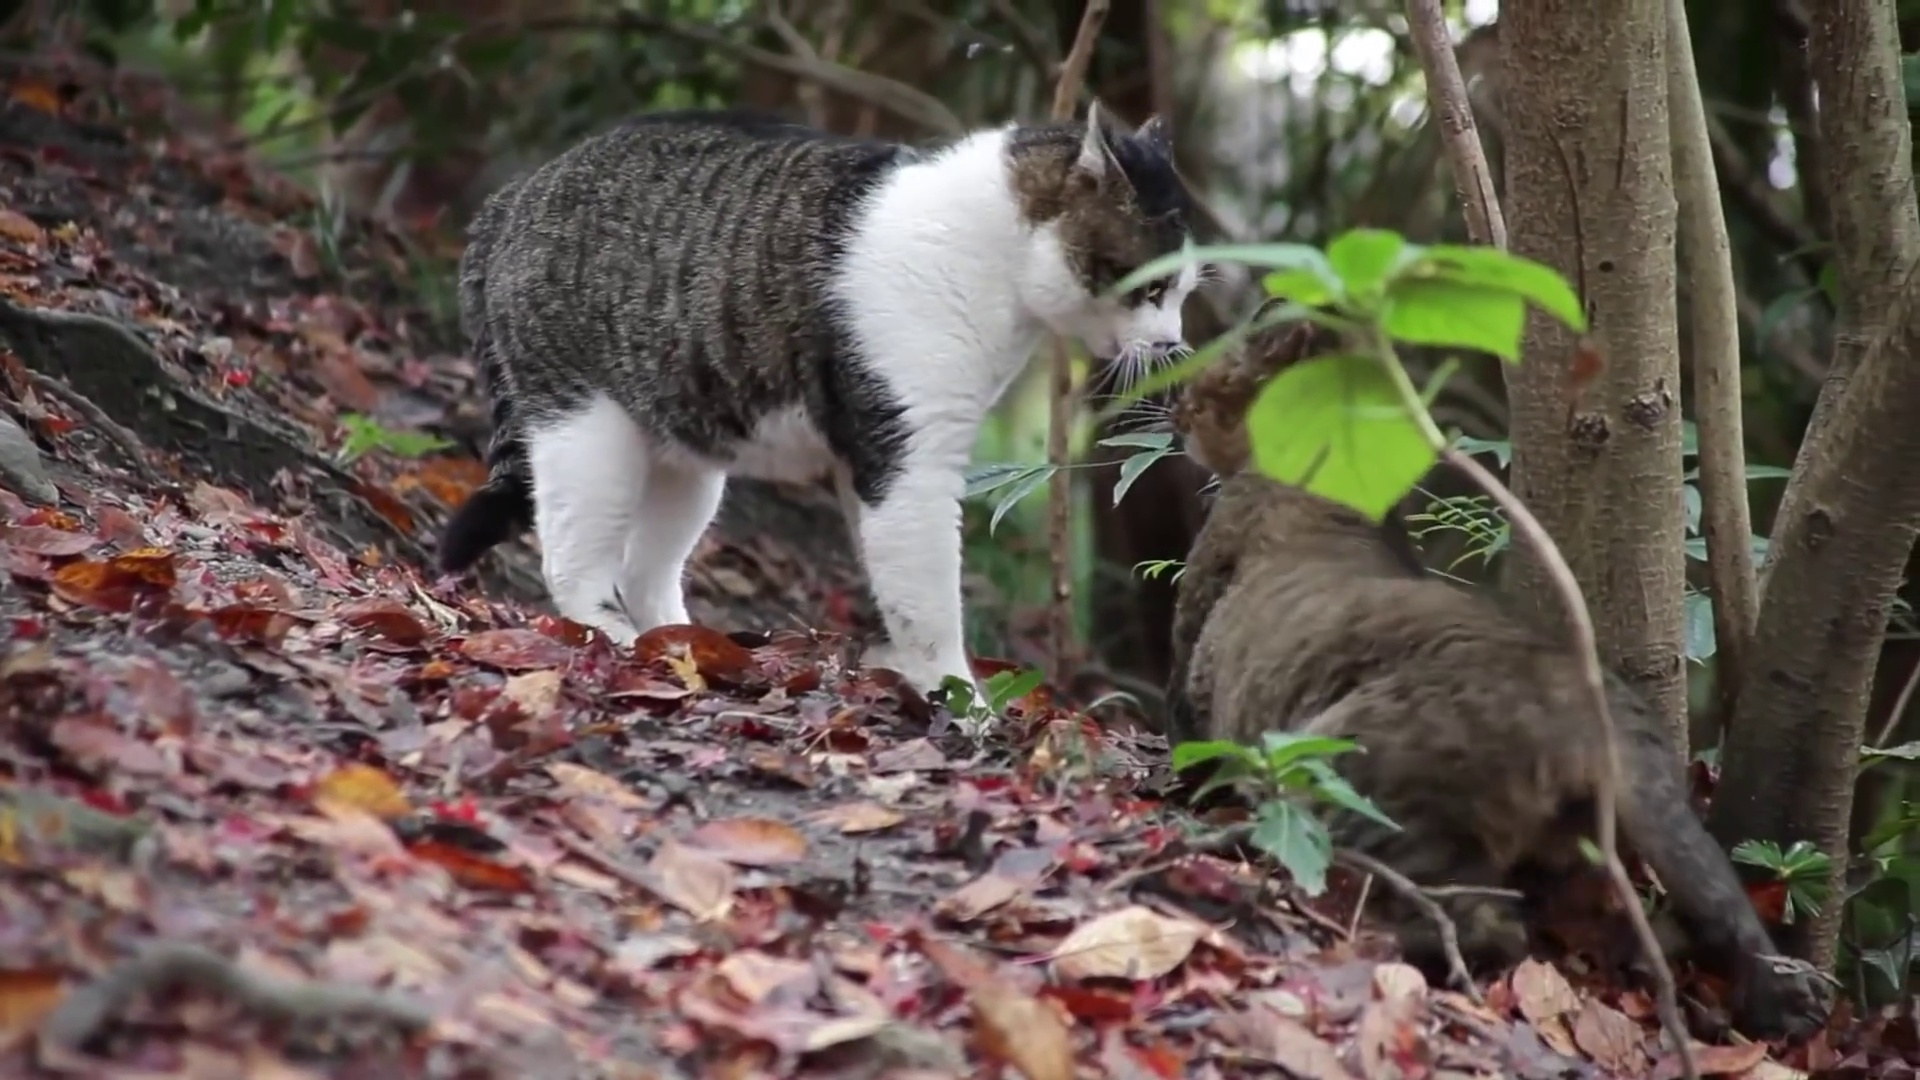black-white: (448, 94, 1197, 717)
pure black: (1168, 320, 1629, 876)
